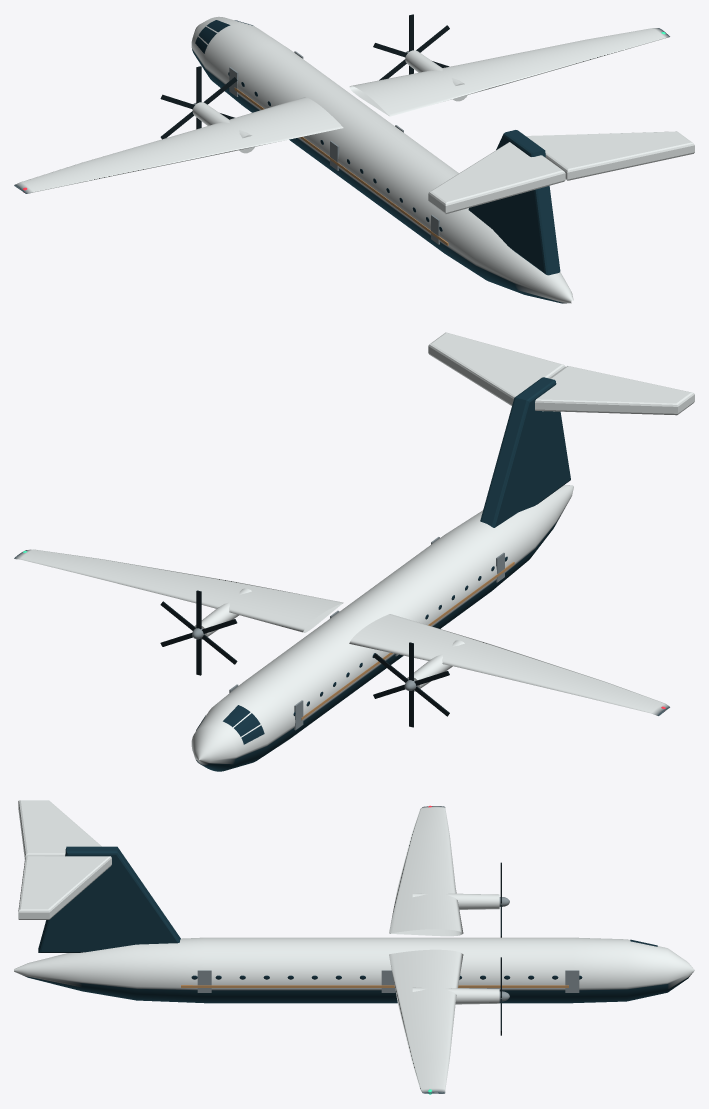
3 views of the same model, one above another, from view 1: azimuth 30°, elevation 25°; view 2: azimuth 150°, elevation 25°; view 3: azimuth 270°, elevation 25° (orthographic). The views are drawn at different scales.
Size of the model in its own units: 27.05 by 6.53 by 27.17.
